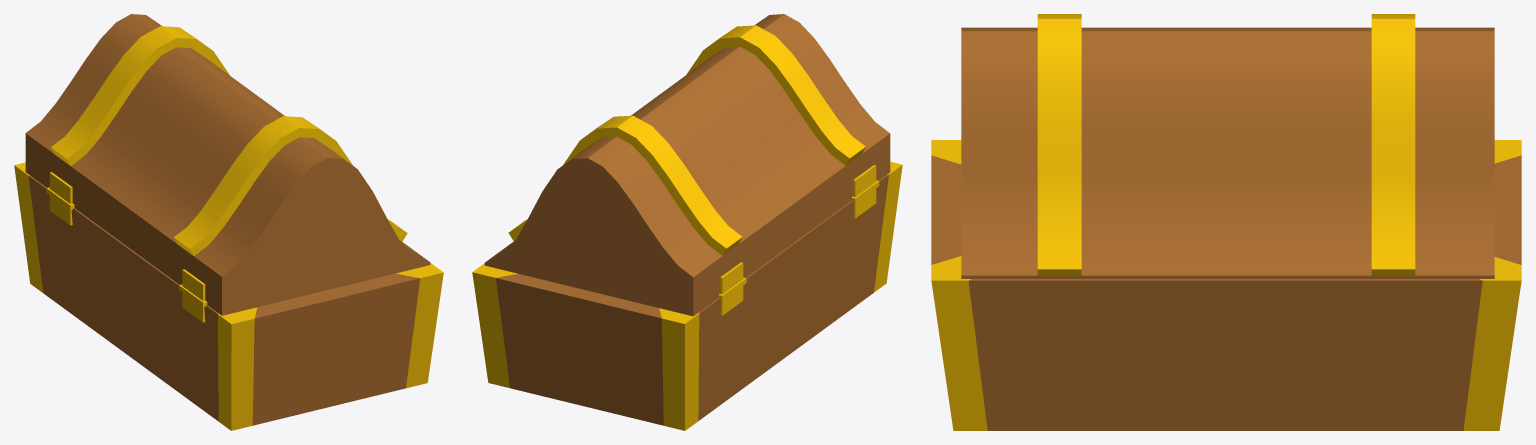
Rendered from TreasureChest.fbx.
3 renders of one model, left to right at view 1: azimuth 30°, elevation 25°; view 2: azimuth 150°, elevation 25°; view 3: azimuth 270°, elevation 25°, orthographic. The views are drawn at different scales.
Visible parts, largest first — view 1: ChestLid, MainChest; view 2: ChestLid, MainChest; view 3: ChestLid, MainChest.
Boxes of the visible parts, box(x1,y1,x2,y2) form: ChestLid: box(25, 14, 430, 315); MainChest: box(14, 162, 443, 430); ChestLid: box(484, 14, 890, 316); MainChest: box(472, 161, 902, 430); ChestLid: box(961, 14, 1494, 278); MainChest: box(931, 140, 1521, 430).
Bounding box in the file's own units: 462 × 519 × 798.
